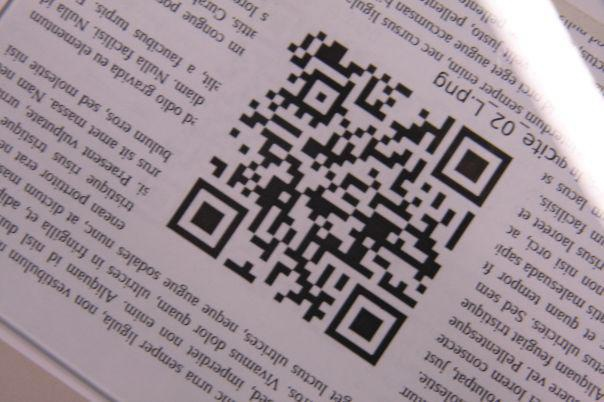code: (166, 30, 514, 366)
